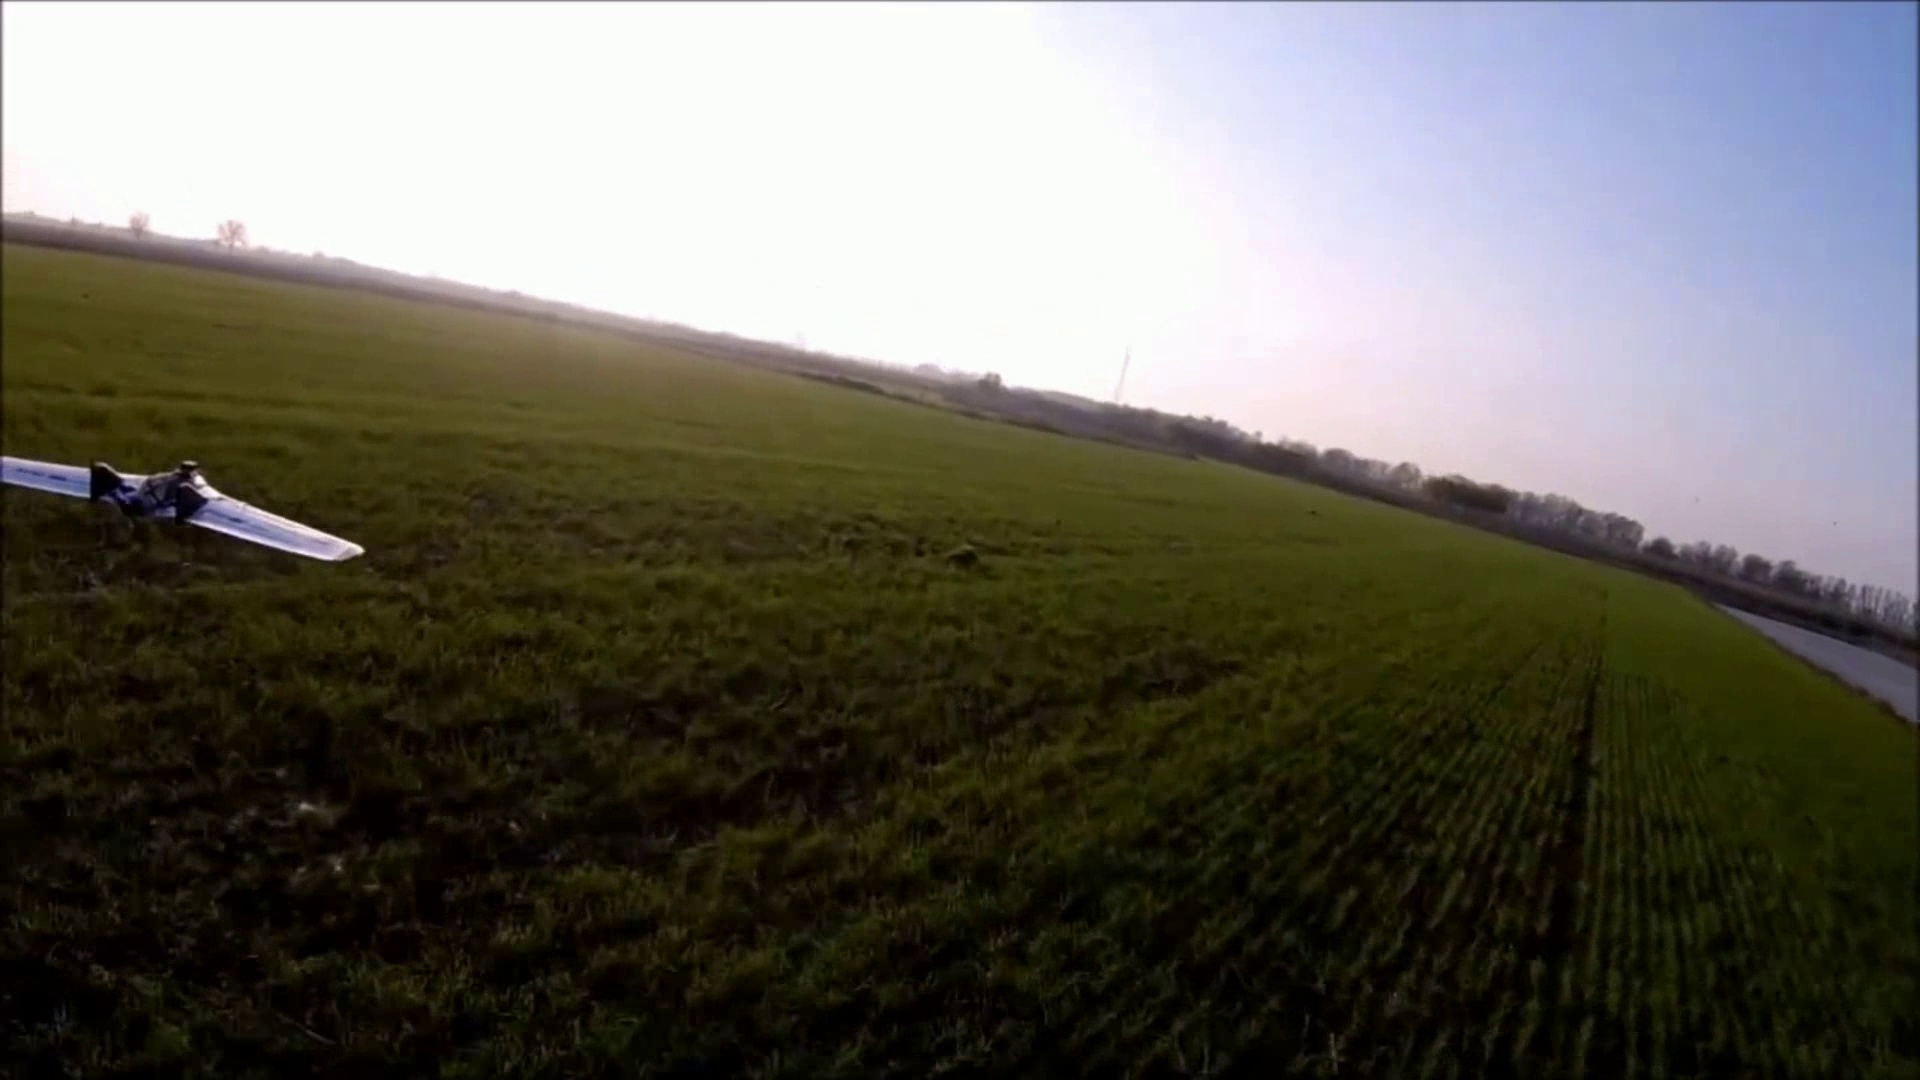airplane: (0, 458, 365, 568)
